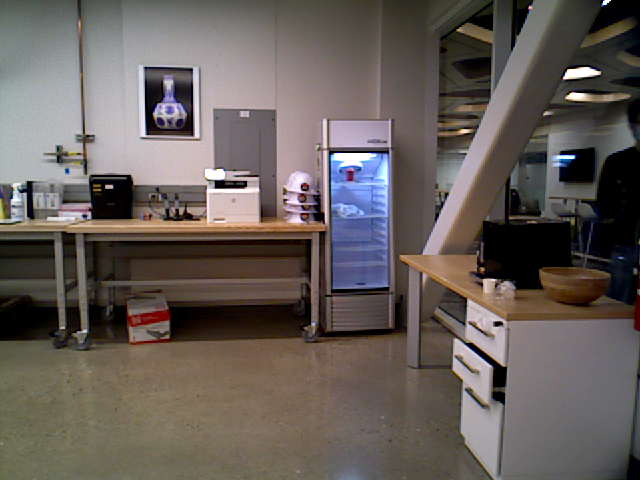painting2: (139, 66, 201, 140)
